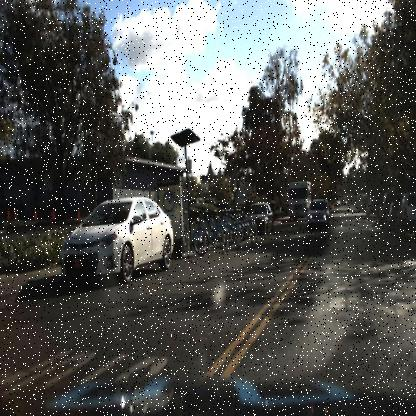car: (59, 197, 175, 286), (378, 192, 405, 227), (394, 192, 415, 237), (245, 201, 272, 235), (308, 198, 331, 230), (384, 200, 407, 231), (366, 199, 384, 217)
truck: (287, 180, 312, 221)
